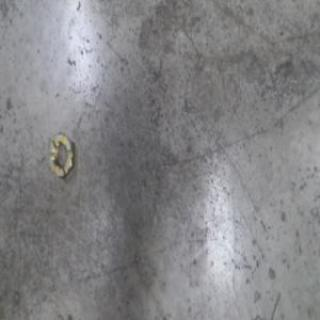Nuttrack_idkeyframe: (45, 128, 75, 178)
